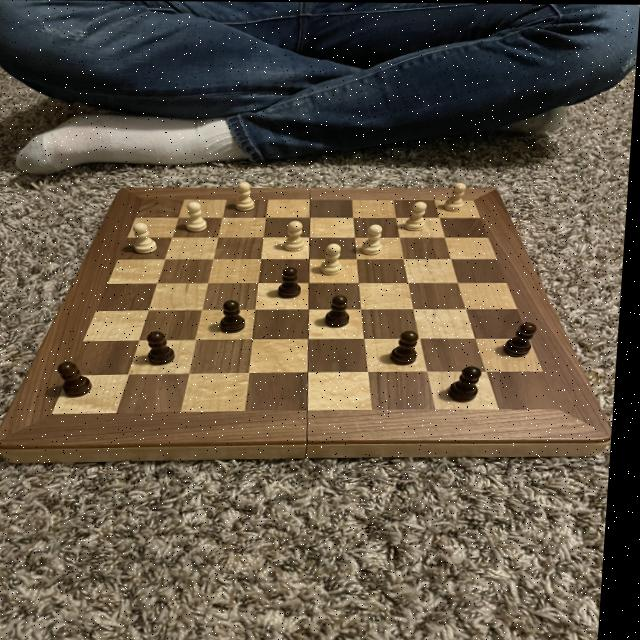black-knight: (58, 356, 103, 400), (504, 316, 547, 361), (449, 362, 489, 404), (389, 326, 429, 367), (147, 329, 185, 369), (221, 297, 258, 335), (326, 292, 359, 331), (280, 264, 311, 302)
white-knight: (362, 219, 394, 260), (130, 219, 166, 255), (180, 200, 215, 237), (319, 242, 353, 278), (283, 217, 314, 254), (234, 178, 263, 213), (406, 198, 435, 233), (444, 180, 473, 213)
